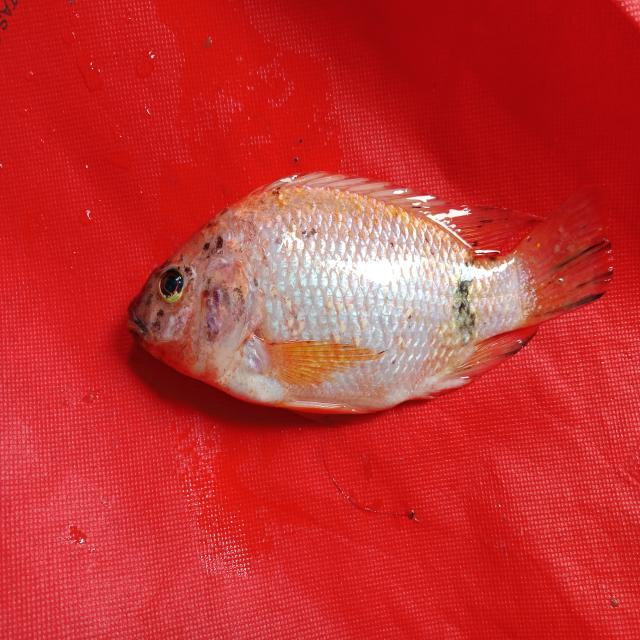ikan: (115, 147, 616, 429)
